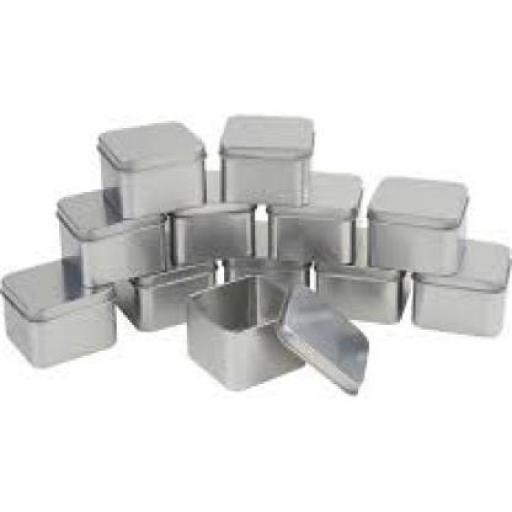metal: (182, 270, 305, 391), (0, 256, 112, 368), (274, 278, 370, 398), (54, 187, 166, 287), (98, 118, 204, 218), (365, 173, 468, 273), (112, 230, 213, 330), (266, 168, 363, 264), (409, 240, 508, 334), (218, 112, 314, 208), (314, 226, 408, 322), (167, 166, 255, 261), (222, 223, 310, 289)
